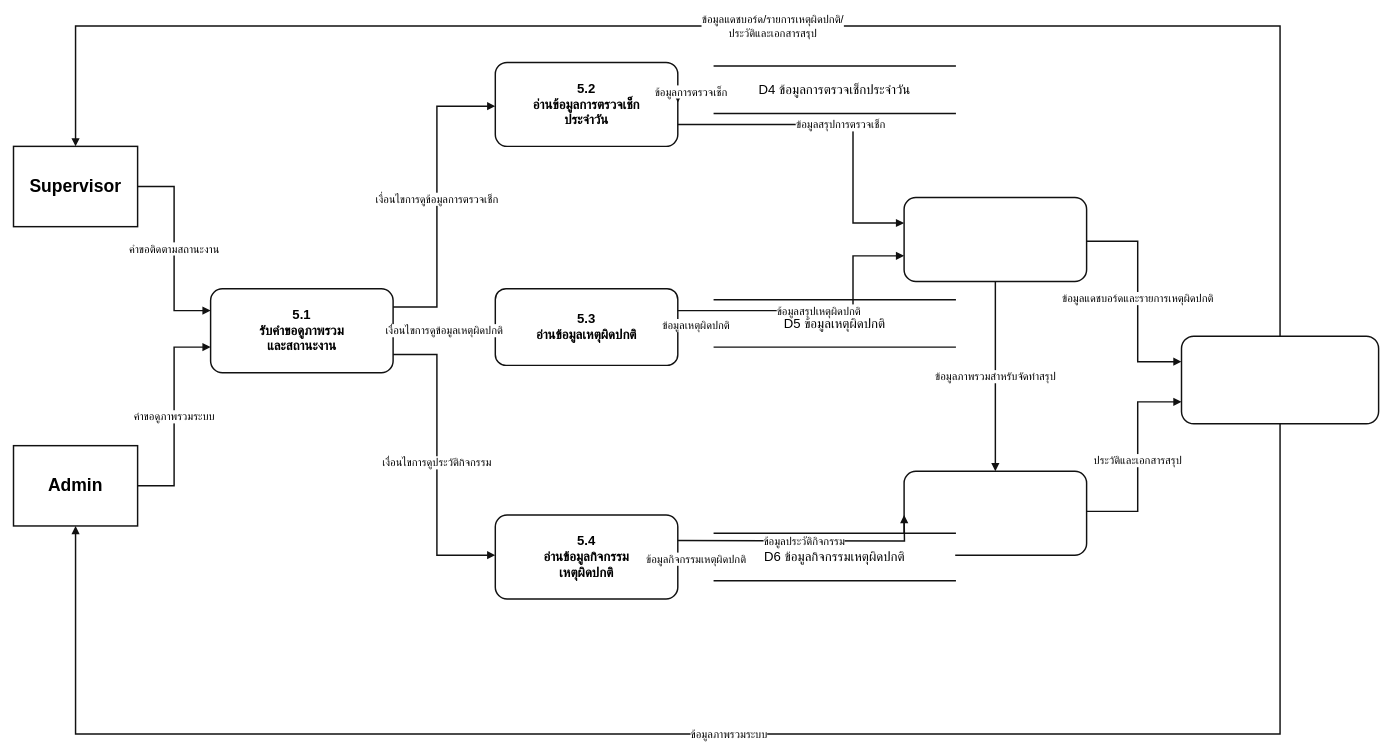
The diagram is 1391 pixels wide and 753 high, and some of its shapes have lost their labels. The centre of each missing label's shape, as x and y in pixels:
5.5 ประมวลผลภาพรวม แดชบอร์ด: pixel 995 239
5.6 จัดเตรียมประวัติ และเอกสารสรุป: pixel 995 513
5.7 ส่งข้อมูลภาพรวมและ เอกสารสรุปกลับผู้ดูแล: pixel 1279 379
